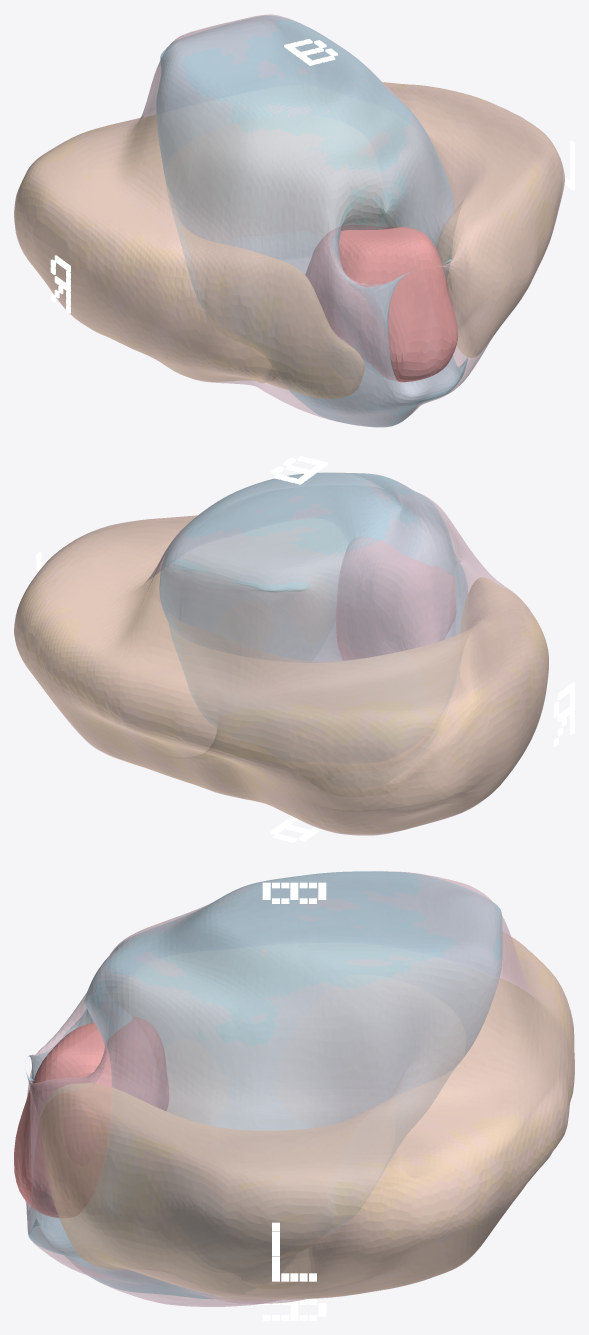
3 views of the same model, one above another, from view 1: azimuth 30°, elevation 25°; view 2: azimuth 150°, elevation 25°; view 3: azimuth 270°, elevation 25° (orthographic). The views are drawn at different scales.
Visible parts, largest first — view 1: prostate_gland, peripheral_zone, transition_zone, lesion_01, pv_ar_marker_B, pv_ar_marker_R; view 2: prostate_gland, peripheral_zone, transition_zone, lesion_01, pv_ar_marker_B, pv_ar_marker_R, pv_ar_marker_A; view 3: prostate_gland, peripheral_zone, transition_zone, lesion_01, pv_ar_marker_B, pv_ar_marker_L, pv_ar_marker_A.
Boxes of the visible parts, box(x1,y1,x2,y2) form: prostate_gland: box(14, 14, 564, 427); peripheral_zone: box(14, 82, 562, 398); transition_zone: box(156, 16, 467, 427); lesion_01: box(305, 225, 458, 382); pv_ar_marker_B: box(284, 39, 337, 65); pv_ar_marker_R: box(50, 255, 70, 313); prostate_gland: box(14, 472, 548, 835); peripheral_zone: box(14, 516, 548, 834); transition_zone: box(159, 472, 467, 727); lesion_01: box(336, 537, 459, 660); pv_ar_marker_B: box(271, 456, 328, 484); pv_ar_marker_R: box(553, 682, 574, 746); pv_ar_marker_A: box(271, 816, 321, 842); prostate_gland: box(25, 871, 574, 1306); peripheral_zone: box(40, 933, 574, 1300); transition_zone: box(27, 871, 502, 1298); lesion_01: box(14, 1017, 168, 1217); pv_ar_marker_B: box(262, 882, 326, 903); pv_ar_marker_L: box(272, 1222, 316, 1281); pv_ar_marker_A: box(262, 1299, 326, 1320).
Size of the model in its own units: 0.0485 by 0.0313 by 0.038.
